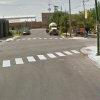Crosswalk: (1, 44, 84, 73)
